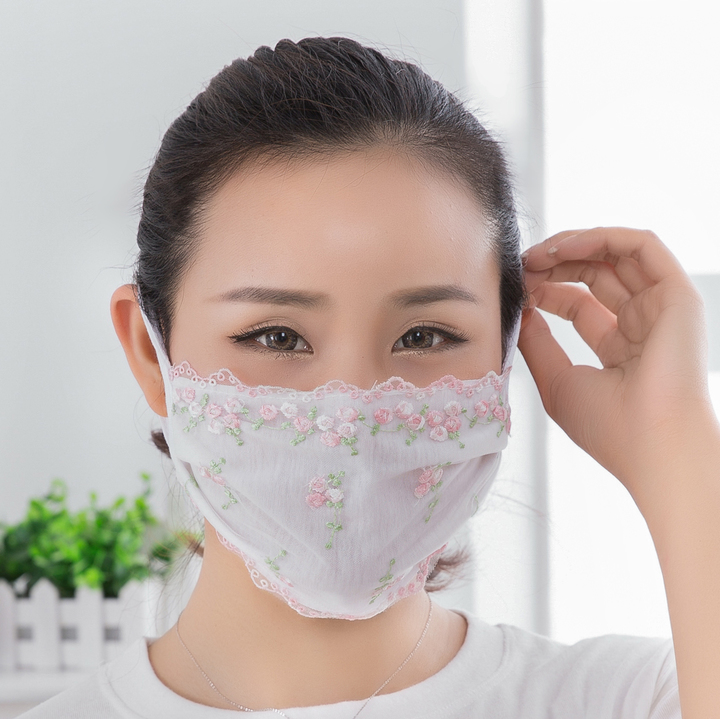face_mask: (177, 149, 507, 592)
